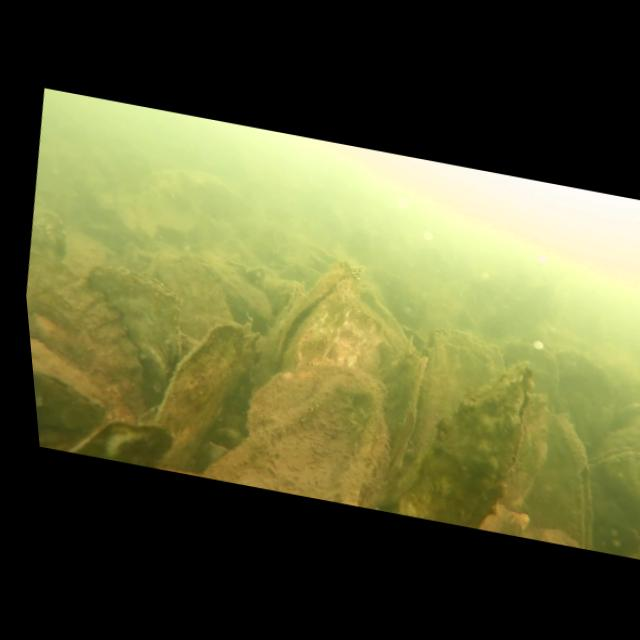Oyster-Closed: (62, 258, 201, 416), (515, 408, 617, 551), (357, 344, 441, 502), (29, 331, 120, 436)
Oyster-Indeterminate: (188, 339, 405, 510), (22, 246, 174, 432), (134, 307, 270, 485), (405, 322, 519, 476), (486, 385, 570, 535), (67, 407, 177, 471)
Oyster-Open: (377, 339, 552, 537), (241, 245, 401, 405), (564, 426, 640, 563)
